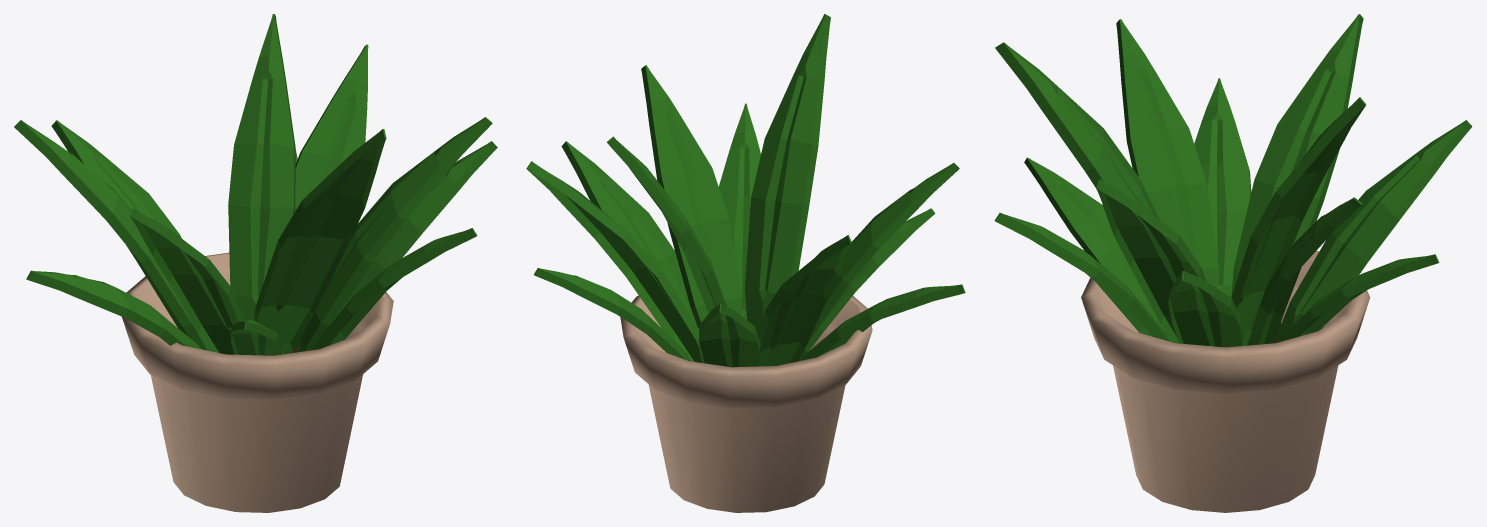
Rendered from plant.fbx.
3 renders of one model, left to right at view 1: azimuth 30°, elevation 25°; view 2: azimuth 150°, elevation 25°; view 3: azimuth 270°, elevation 25°, orthographic. The views are drawn at different scales.
Parts seen in each view (by area): view 1: löv.012; view 2: löv.012; view 3: löv.012.
Boxes of the visible parts, x1,y1,x2,y2 form: löv.012: (14,14,497,512); löv.012: (526,14,965,512); löv.012: (994,14,1472,512).
Size of the model in its own units: 930 by 833 by 806.
